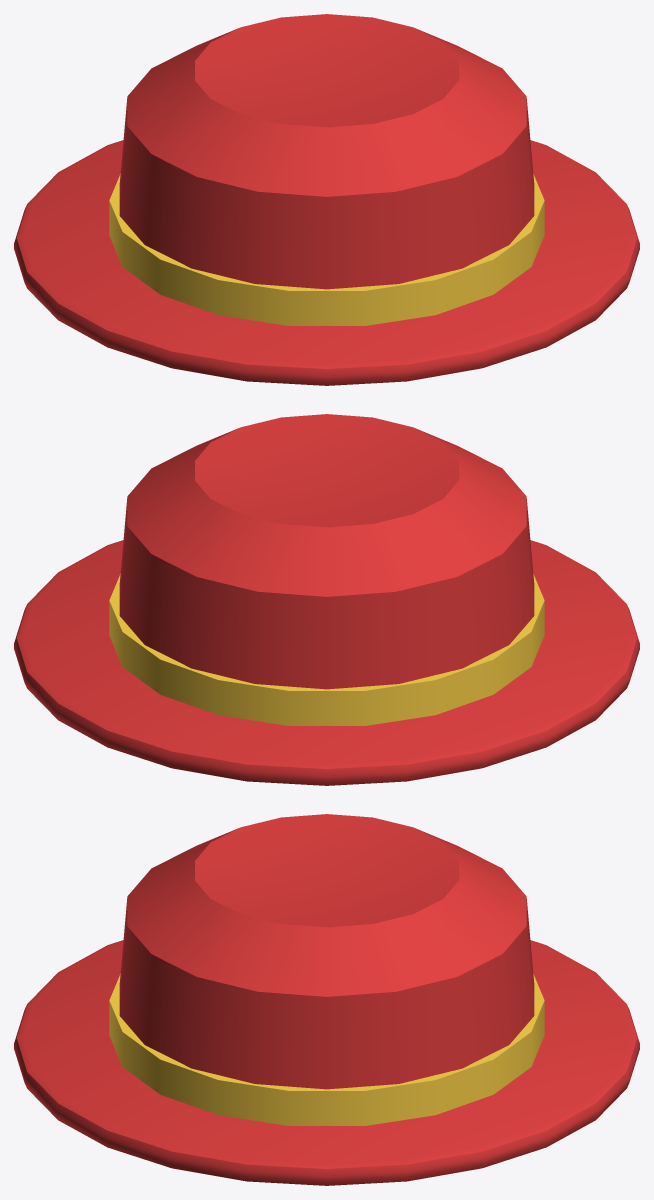
The model's file is AccFedora.fbx.
The picture shows the model from 3 angles, top to bottom: view 1: azimuth 30°, elevation 25°; view 2: azimuth 150°, elevation 25°; view 3: azimuth 270°, elevation 25°; orthographic projection.
Parts seen in each view (by area): view 1: AccFedora; view 2: AccFedora; view 3: AccFedora.
Part boxes in pixels (x1,y1,x2,y2): AccFedora: (14, 14, 639, 385); AccFedora: (14, 414, 639, 785); AccFedora: (14, 814, 639, 1185).
Bounding box in the file's own units: 210 × 69 × 210.
